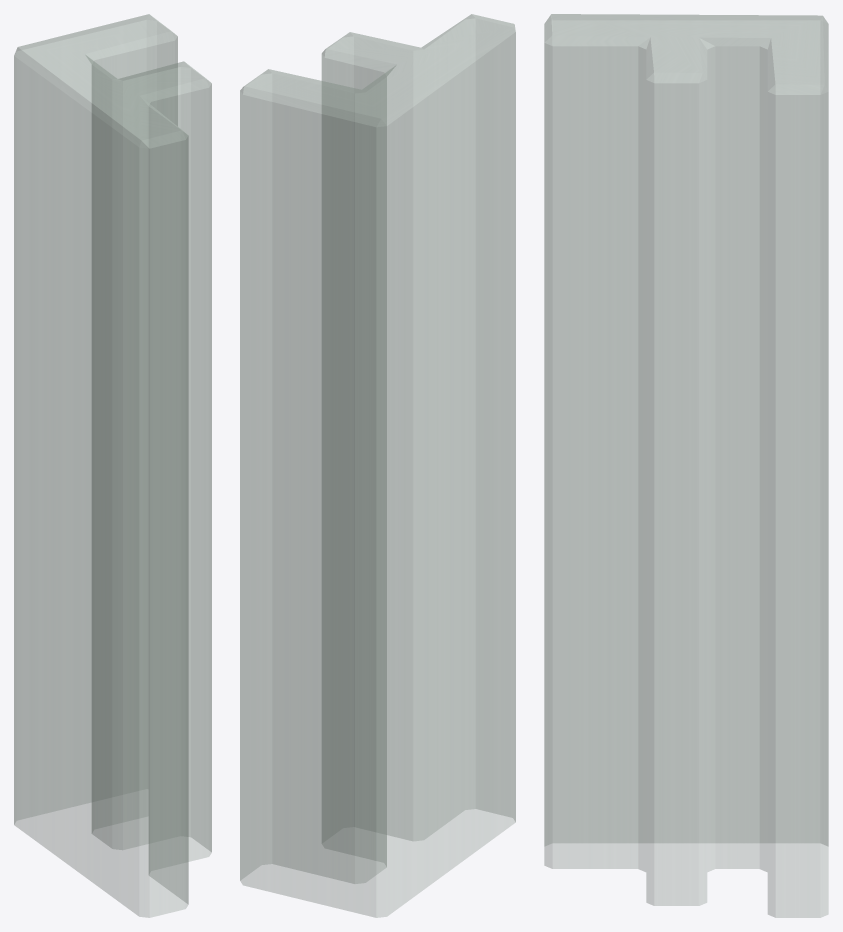
3 views of the same model, side by side, from view 1: azimuth 30°, elevation 25°; view 2: azimuth 150°, elevation 25°; view 3: azimuth 270°, elevation 25° (orthographic). The views are drawn at different scales.
Visible parts, largest first — view 1: F; view 2: F; view 3: F.
Part boxes in pixels (x1,y1,x2,y2): F: [14, 14, 211, 917]; F: [240, 14, 515, 917]; F: [544, 14, 828, 917].
Size of the model in its own units: 0.374 by 1.94 by 0.6019.
Materials: 1 (1 with a texture image).
